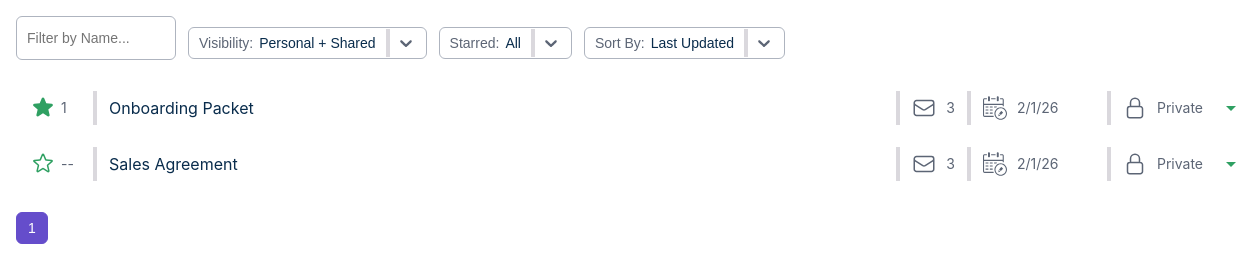
Test: VerdocsTemplatesList › filters locally while typing
expect the text "Onboarding Packet" is shown: met, box x1=109 y1=98 x2=254 y2=118
Type "Sales" into the field with placeholder "Filter by Name..." at point(96, 38), box x1=16 y1=16 x2=176 y2=60
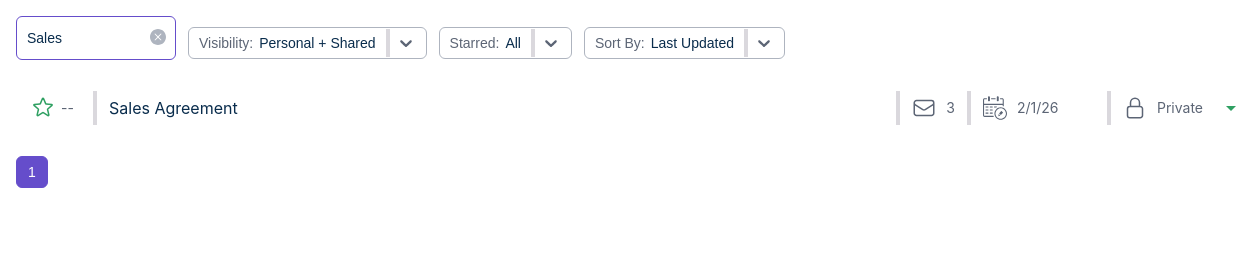
expect the text "Sales Agreement" is shown: met, box x1=109 y1=98 x2=238 y2=118
expect the text "Onboarding Packet" is gone: met
